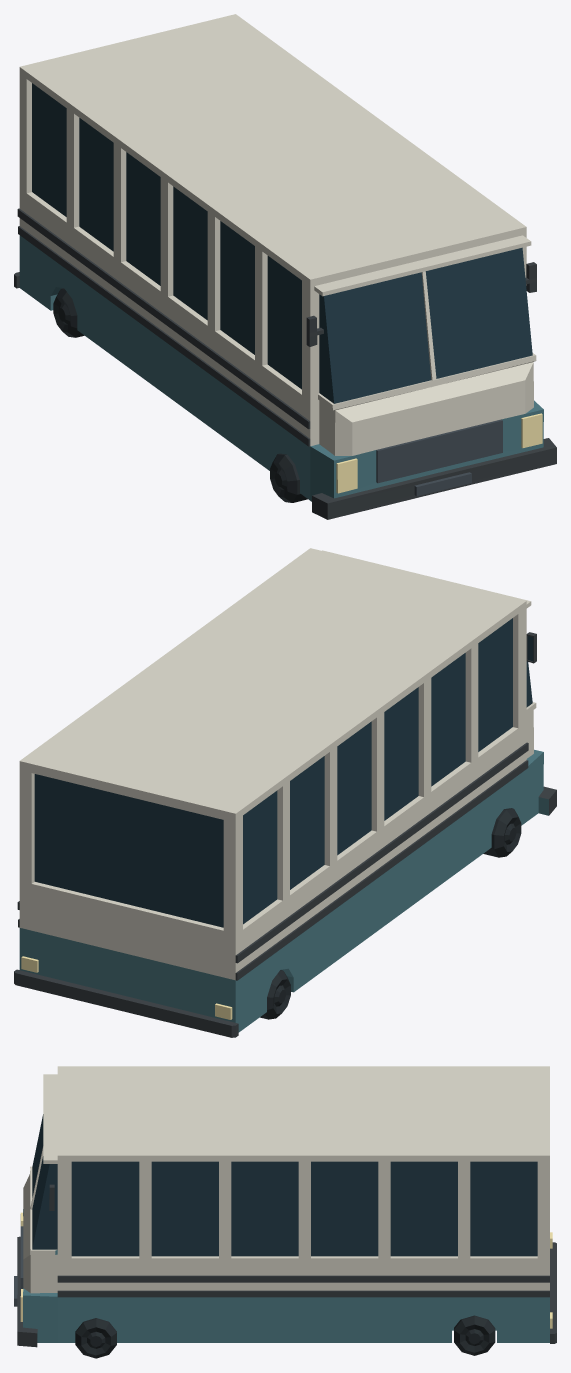
The model's file is Bus.glb.
3 renders of one model, top to bottom at view 1: azimuth 30°, elevation 25°; view 2: azimuth 150°, elevation 25°; view 3: azimuth 270°, elevation 25°, orthographic. The views are drawn at different scales.
Parts seen in each view (by area): view 1: Bus, FrontWheels, BackWheels; view 2: Bus, FrontWheels, BackWheels; view 3: Bus, BackWheels, FrontWheels.
Boxes of the visible parts, bbox=[...] form: Bus: bbox=[14, 14, 556, 519]; FrontWheels: bbox=[270, 453, 307, 502]; BackWheels: bbox=[53, 288, 84, 337]; Bus: bbox=[14, 548, 556, 1037]; FrontWheels: bbox=[483, 808, 521, 857]; BackWheels: bbox=[260, 970, 290, 1019]; Bus: bbox=[14, 1066, 556, 1347]; BackWheels: bbox=[454, 1315, 495, 1355]; FrontWheels: bbox=[75, 1318, 116, 1358].
Size of the model in its own units: 2.6 by 2.5 by 6.09.
